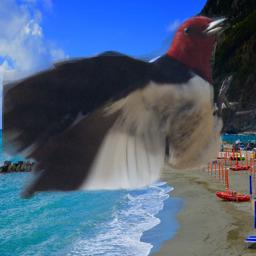Woodpecker: (2, 5, 253, 199)
